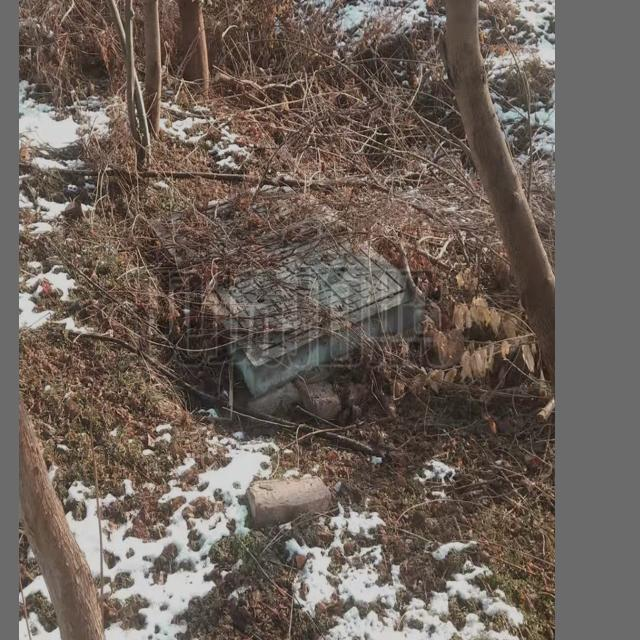circle: (150, 173, 428, 406)
